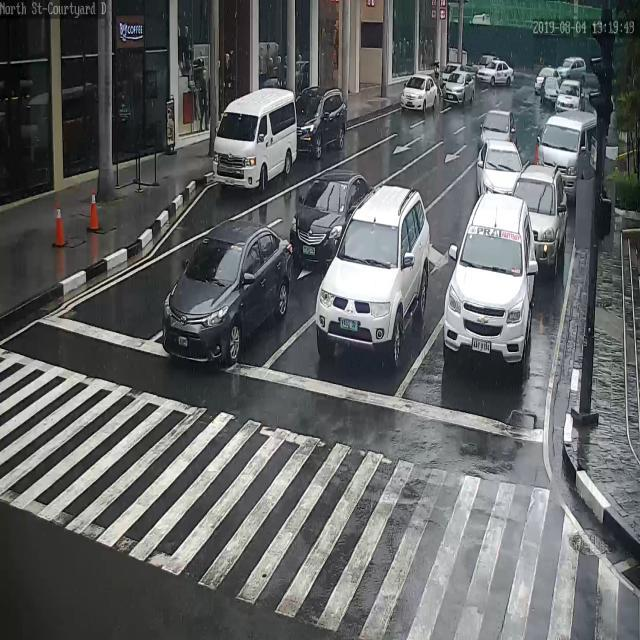car: (315, 184, 429, 373), (158, 225, 294, 368), (443, 193, 536, 370), (293, 169, 369, 277), (502, 163, 568, 273), (294, 87, 349, 158), (480, 108, 525, 159), (400, 75, 441, 113), (442, 69, 478, 104), (476, 59, 515, 87), (552, 78, 585, 111), (536, 67, 564, 102), (558, 54, 591, 80)
truck: (210, 90, 299, 191)
van: (531, 111, 600, 200)
